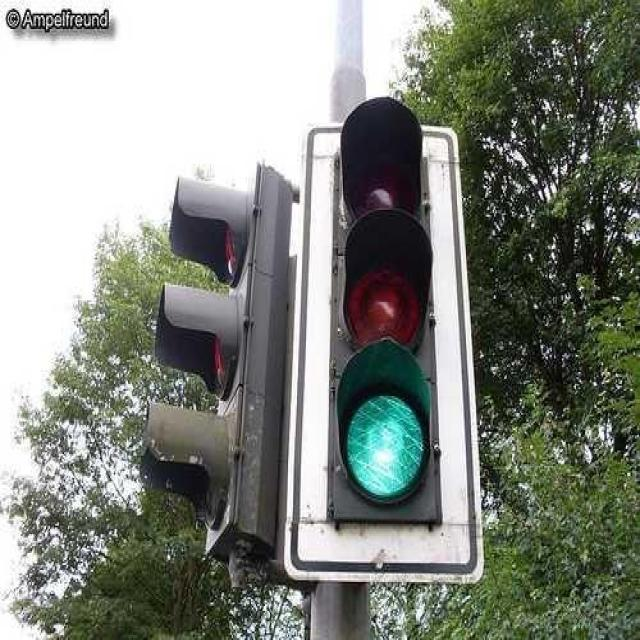Traffic Light -Green-: (283, 106, 486, 586), (333, 377, 435, 514)
